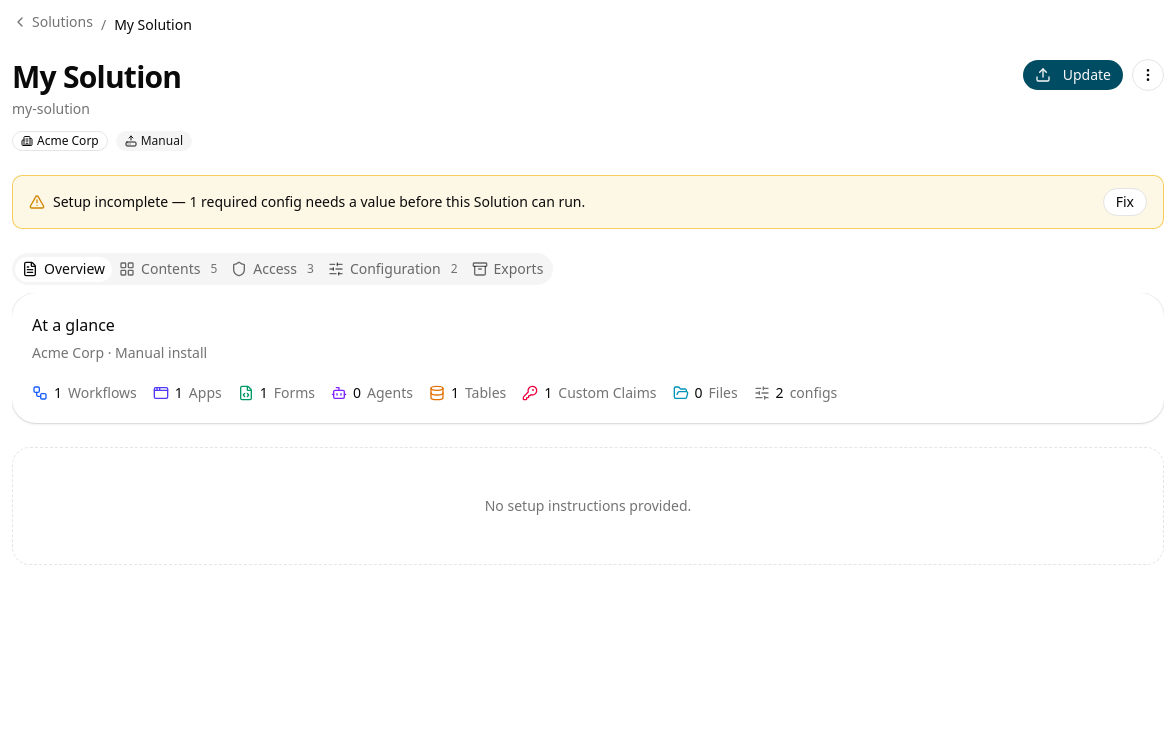
Scenario: SolutionDetail › shows an error state when backup export jobs fail to load
The image size is (1176, 732).
Step 1. Click the tab with test id "tab-exports" → x=508, y=269, box [465,256,550,282]
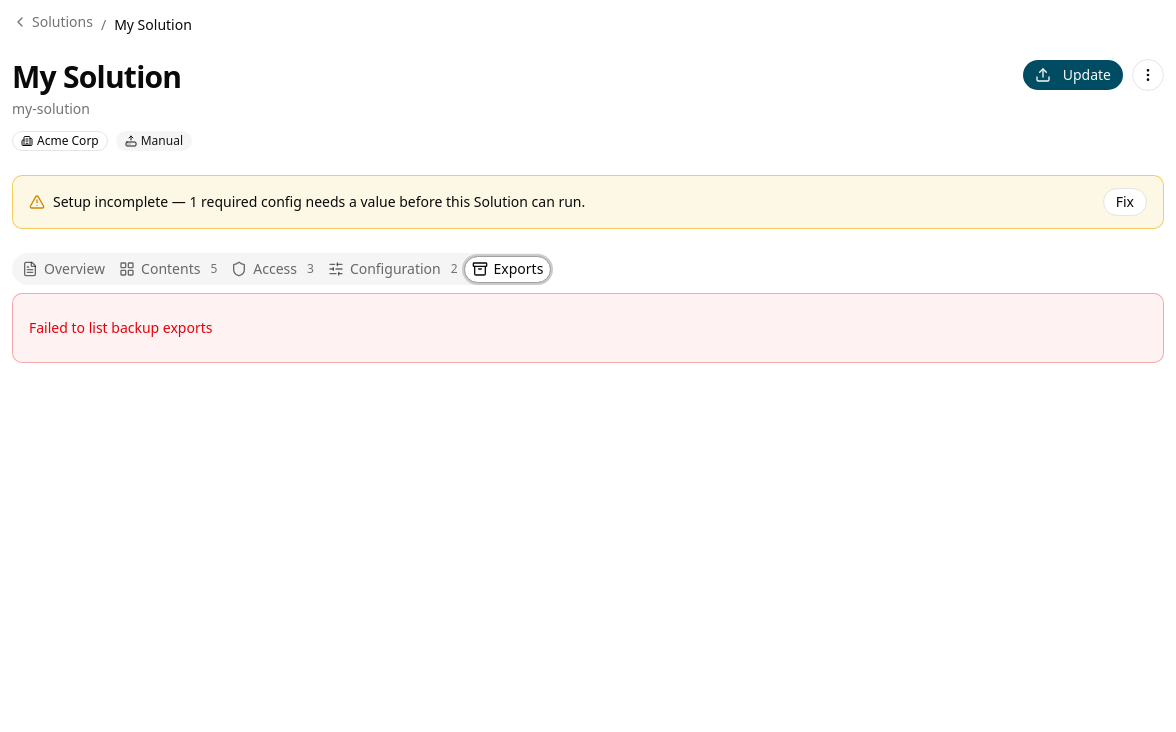
Expected: the text "Failed to list backup exports" is shown, [12,293,1164,363]
